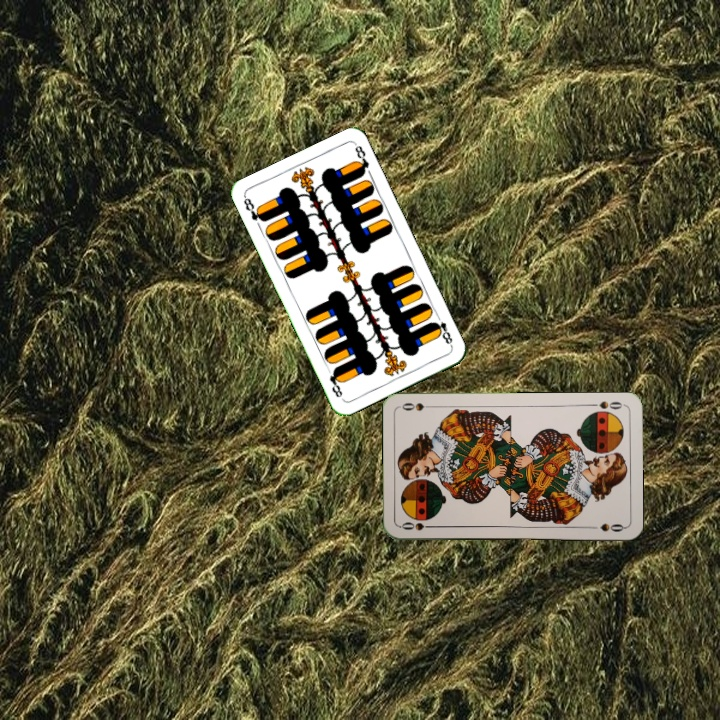E8: (428, 311, 455, 349), (240, 193, 268, 225)
SO: (398, 518, 438, 533), (586, 397, 626, 412)
